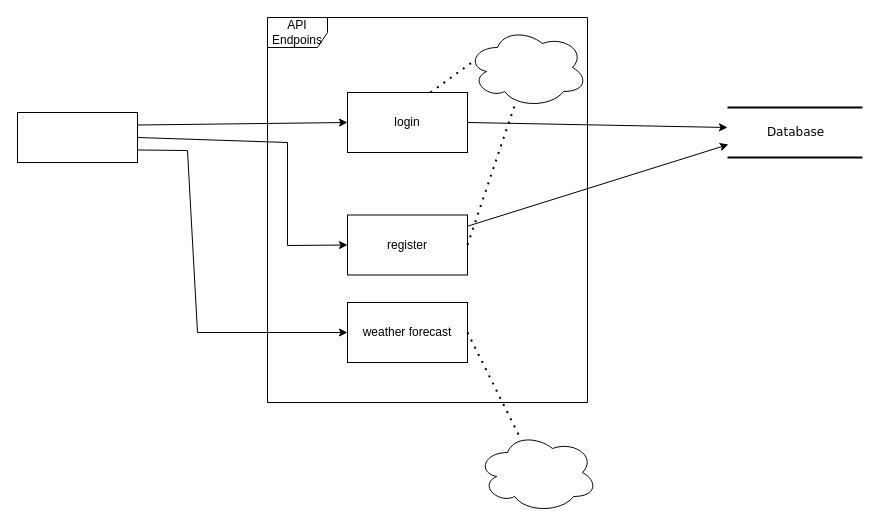
The diagram is 881 pixels wide and 530 high, and some of its shapes have lost their labels. The shapes that lost their labels are listed below. From the top down, each one's centre as x and y in pixels, then its label:
At (527,67): "No Necesitan Token".
At (77,137): "LLamada Al API".
At (537,472): "Necesita Token".
